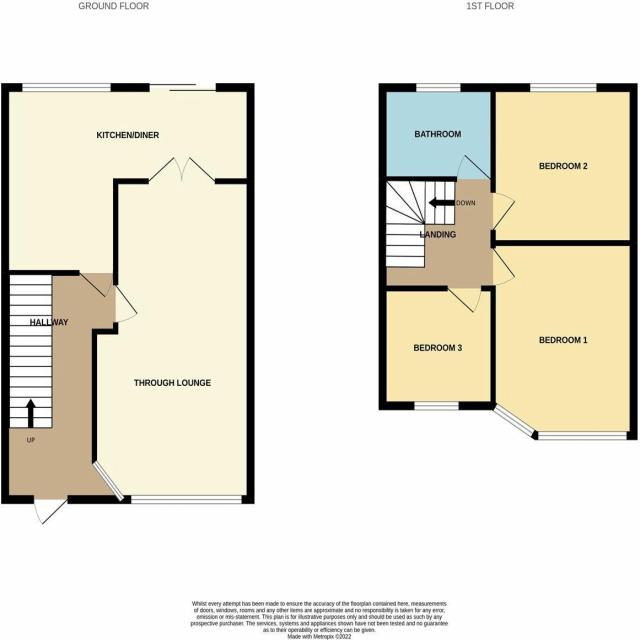DOOR: (28, 495, 73, 528), (491, 242, 519, 291), (441, 285, 485, 316), (113, 278, 141, 326), (74, 269, 115, 301), (453, 151, 495, 180), (491, 191, 518, 231)
DOUBLE DOOR: (140, 143, 221, 186)
ROOM: (93, 147, 256, 506), (0, 80, 254, 301), (490, 239, 637, 440), (490, 83, 638, 246), (379, 284, 498, 411)
WINDOW: (489, 400, 537, 440), (90, 458, 127, 504), (129, 492, 243, 505), (19, 79, 112, 94), (535, 429, 629, 443), (529, 80, 599, 94), (411, 398, 461, 413), (413, 80, 462, 95)
